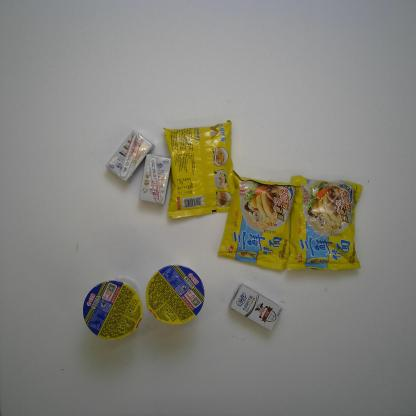Instant Noodles: (217, 169, 299, 274), (160, 119, 242, 223), (284, 174, 366, 276), (81, 278, 144, 342), (145, 263, 203, 327)
Milk: (103, 127, 156, 185), (227, 282, 283, 332), (137, 154, 173, 206)
